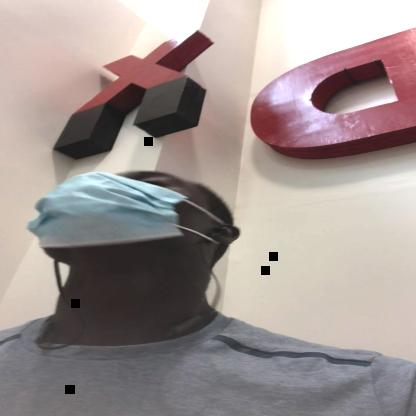mask: (26, 169, 219, 265)
